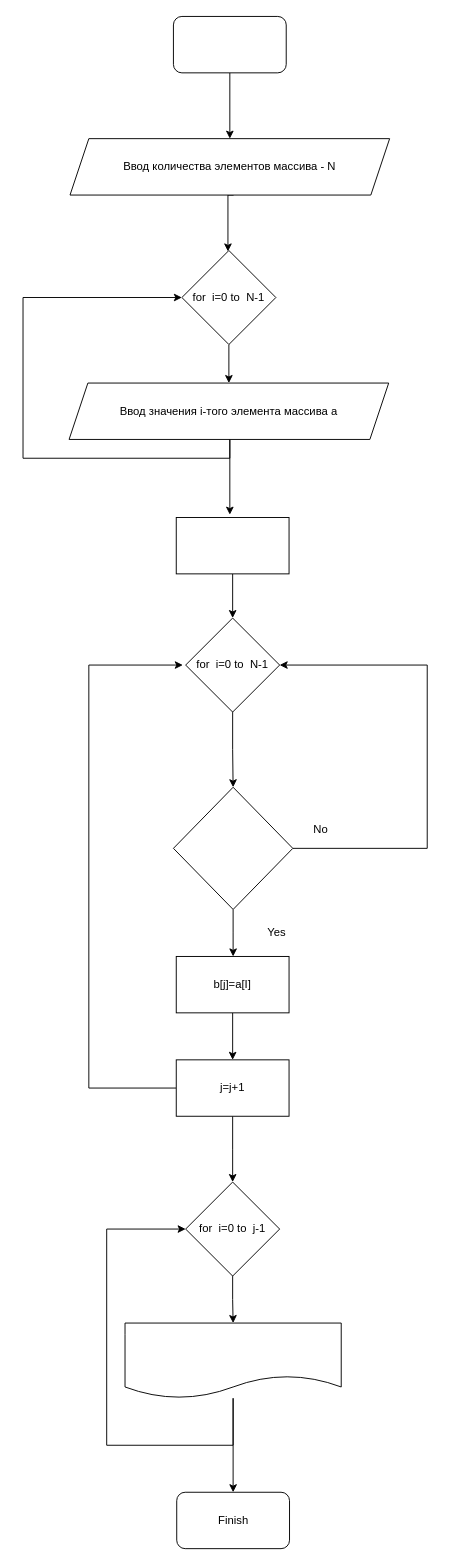
The diagram is 451 pixels wide and 1565 high, and some of its shapes have lost their labels. The centre of each missing label's shape, as x and y in pixels:
"if a[I].Length<=3" goes at [232,847].
"int j=0;" goes at [232,545].
"Star" goes at [229,44].
"Вывод j-го элемента массива b" goes at [232,1360].
